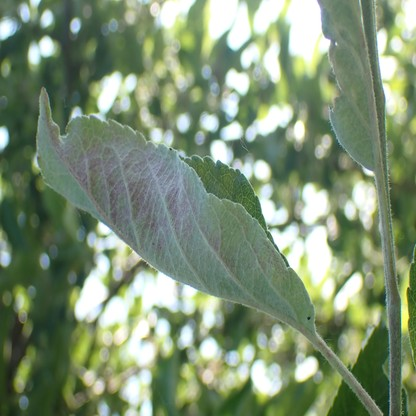powder: (36, 86, 315, 334), (317, 0, 386, 170)
